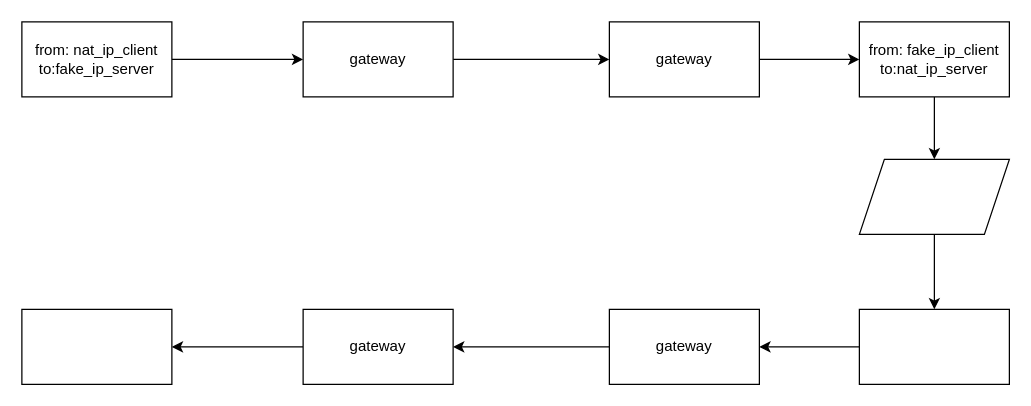
The diagram is 1031 pixels wide and 406 high, and some of its shapes have lost their labels. The shapes that lost their labels are listed below. From the top down, each one's centre as x and y in pixels, then its label:
At point (933, 196): "server_process".
At point (96, 346): "from: fake_ip_server to:nat_ip_client".
At point (933, 346): "from: nat_ip_server to:fake_ip_client".
